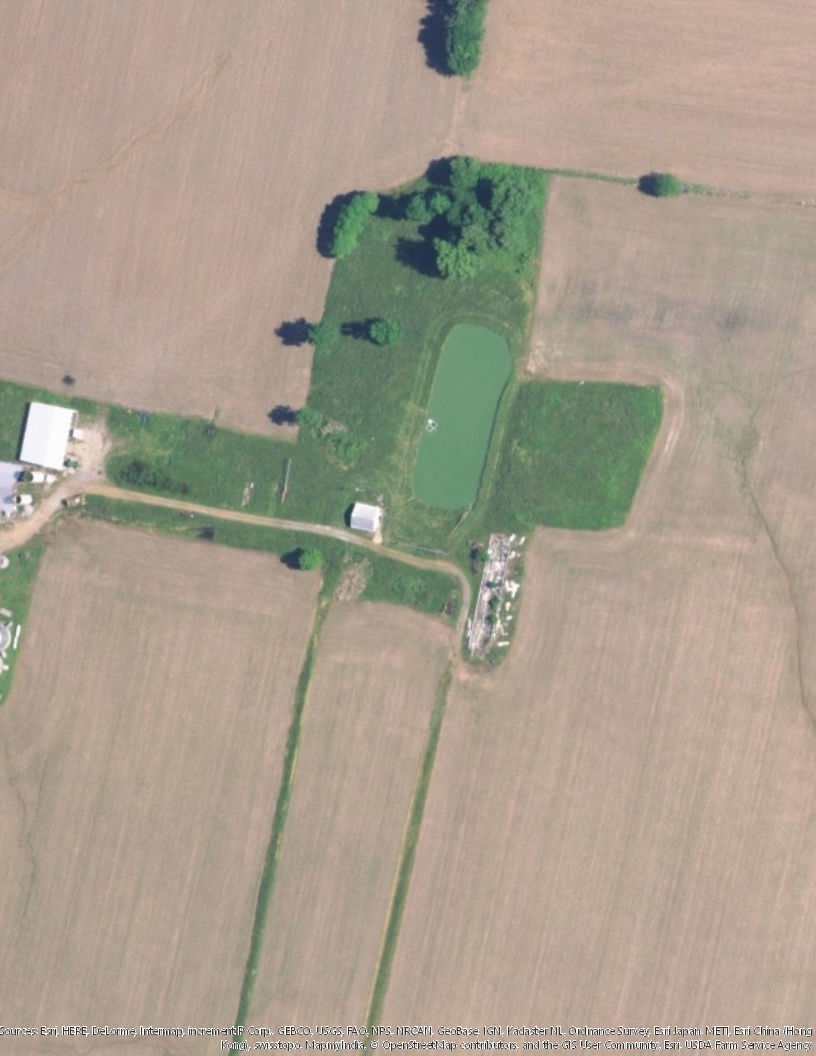cafo: (16, 400, 76, 473)
